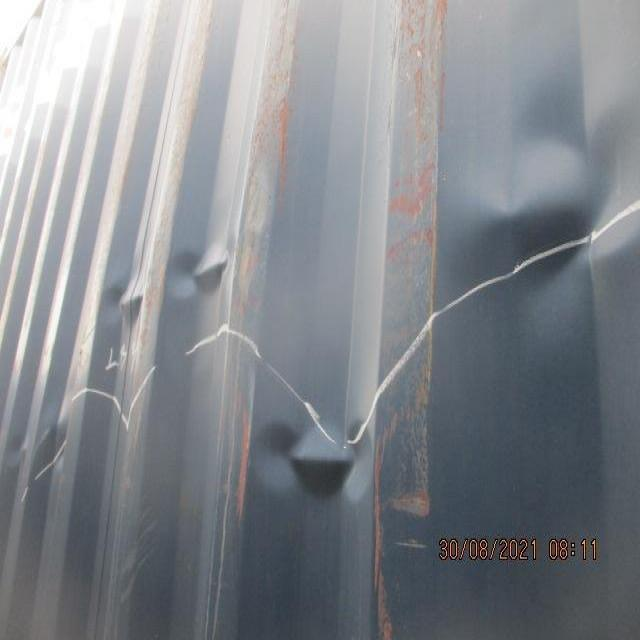dent: (19, 97, 636, 529)
